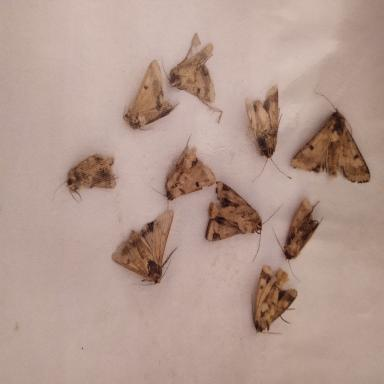abw: (291, 88, 371, 183), (205, 180, 284, 262), (161, 33, 223, 123), (147, 133, 216, 212), (111, 209, 177, 285), (244, 85, 292, 183), (271, 198, 323, 281), (123, 58, 179, 132), (251, 264, 298, 335), (55, 152, 118, 202)
